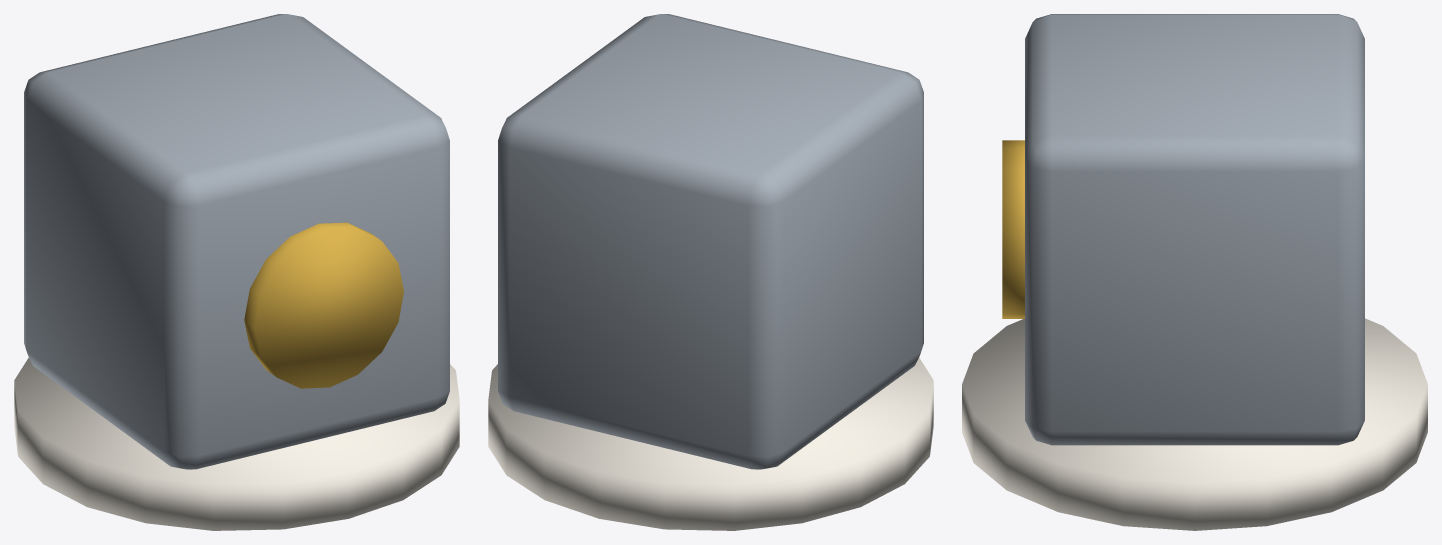
File: Diagram_StorageNode.fbx
3 renders of one model, left to right at view 1: azimuth 30°, elevation 25°; view 2: azimuth 150°, elevation 25°; view 3: azimuth 270°, elevation 25°, orthographic. The views are drawn at different scales.
Parts seen in each view (by area): view 1: Storage_Vault, Node_Plinth, Storage_Dial; view 2: Storage_Vault, Node_Plinth; view 3: Storage_Vault, Node_Plinth, Storage_Dial.
Boxes of the visible parts, x1,y1,x2,y2 form: Storage_Vault: [24, 14, 449, 469]; Node_Plinth: [14, 357, 459, 530]; Storage_Dial: [244, 222, 403, 388]; Storage_Vault: [498, 14, 923, 469]; Node_Plinth: [488, 357, 933, 530]; Storage_Vault: [1025, 14, 1364, 445]; Node_Plinth: [962, 318, 1427, 530]; Storage_Dial: [1002, 140, 1024, 318].
Size of the model in its own units: 5.2 by 4.4 by 5.2.
